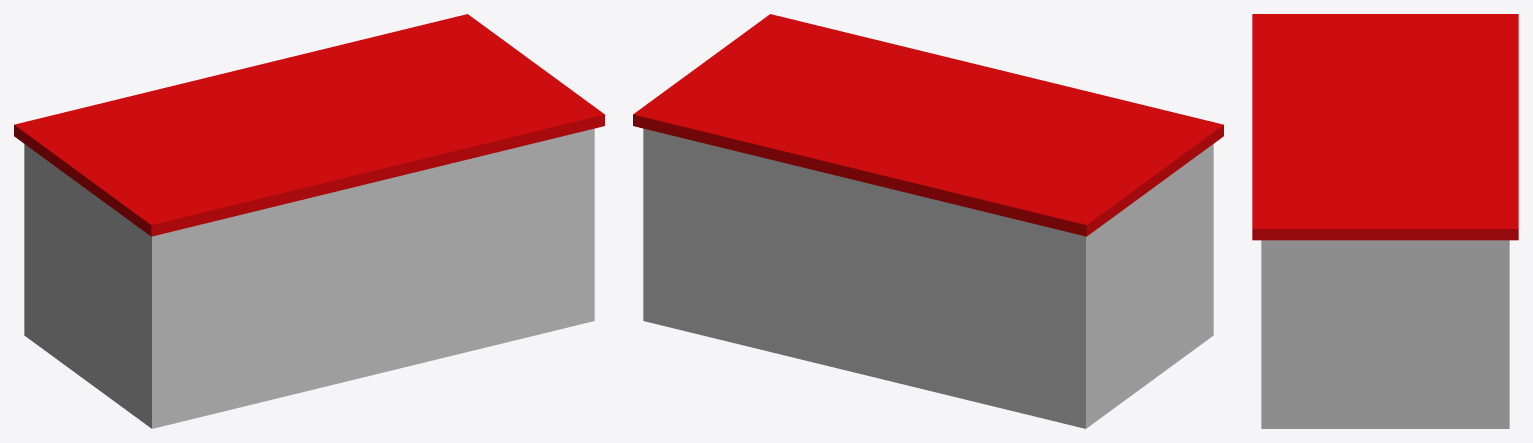
The model's file is House3.fbx.
The picture shows the model from 3 angles, left to right: view 1: azimuth 30°, elevation 25°; view 2: azimuth 150°, elevation 25°; view 3: azimuth 270°, elevation 25°; orthographic projection. The views are drawn at different scales.
Parts seen in each view (by area): view 1: House3_LOD0, House3_LOD0.001; view 2: House3_LOD0, House3_LOD0.001; view 3: House3_LOD0.001, House3_LOD0.
Part boxes in pixels (x1,y1,x2,y2): House3_LOD0: (24,128,594,428); House3_LOD0.001: (14,14,604,236); House3_LOD0: (643,128,1213,428); House3_LOD0.001: (633,14,1223,236); House3_LOD0.001: (1252,14,1518,240); House3_LOD0: (1261,240,1509,428).
Bounding box in the file's own units: 1025 × 450 × 537.
